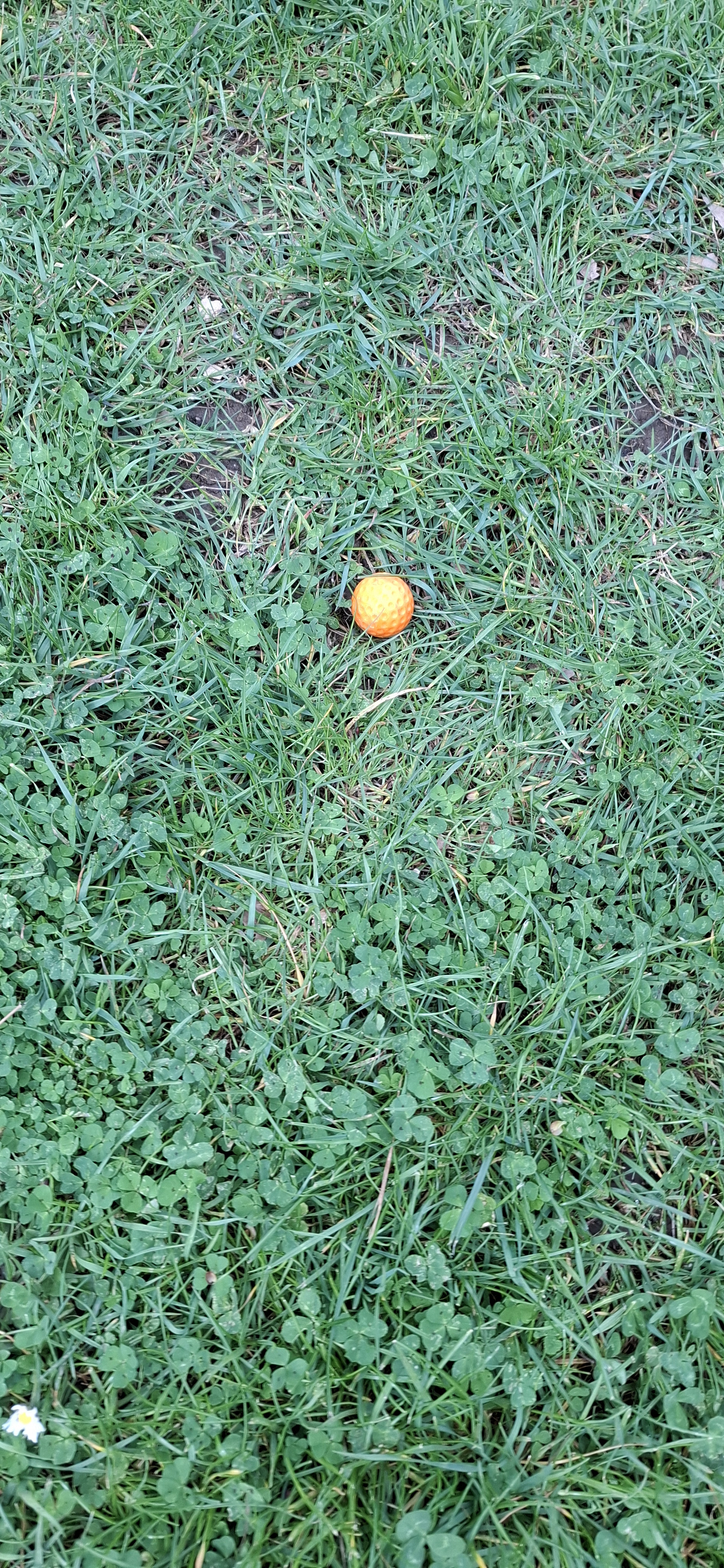ball: (264, 672, 295, 806)
